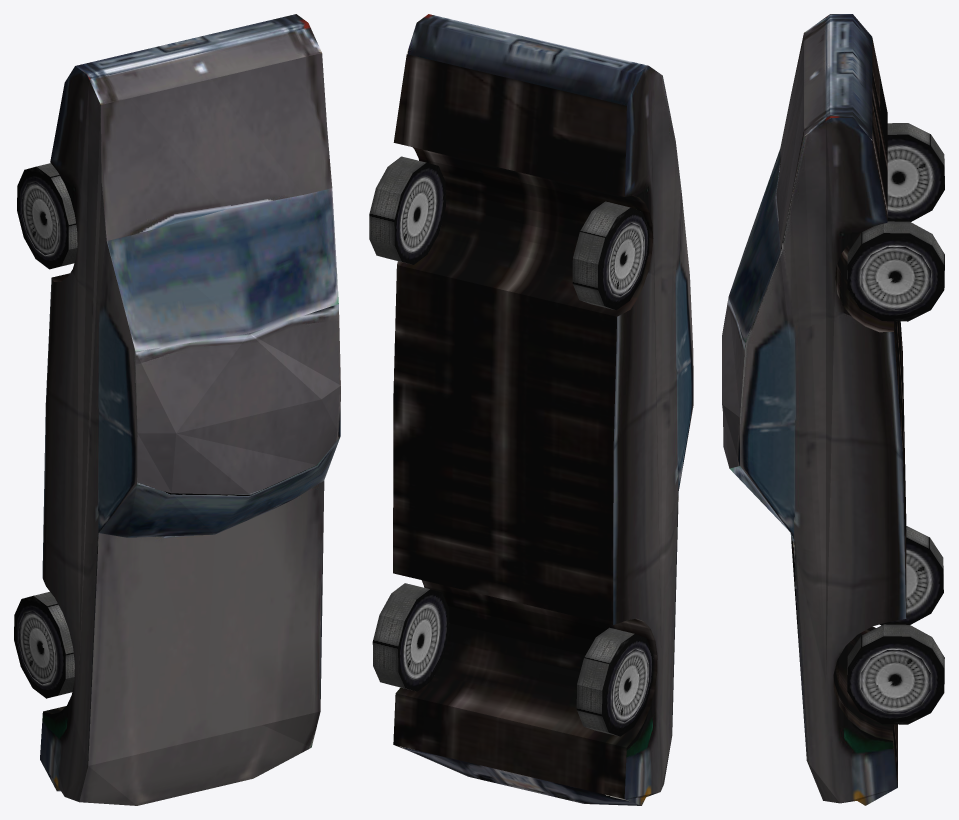
The model's file is carpack_gblack_wtf.obj.
3 renders of one model, left to right at view 1: azimuth 30°, elevation 25°; view 2: azimuth 150°, elevation 25°; view 3: azimuth 270°, elevation 25°, orthographic. The views are drawn at different scales.
Parts seen in each view (by area): view 1: group2; view 2: group2; view 3: group2.
Boxes of the visible parts, bbox=[...] form: group2: bbox=[14, 14, 340, 805]; group2: bbox=[369, 14, 693, 805]; group2: bbox=[722, 14, 944, 805].
Bounding box in the file's own units: 227 × 660 × 190.
